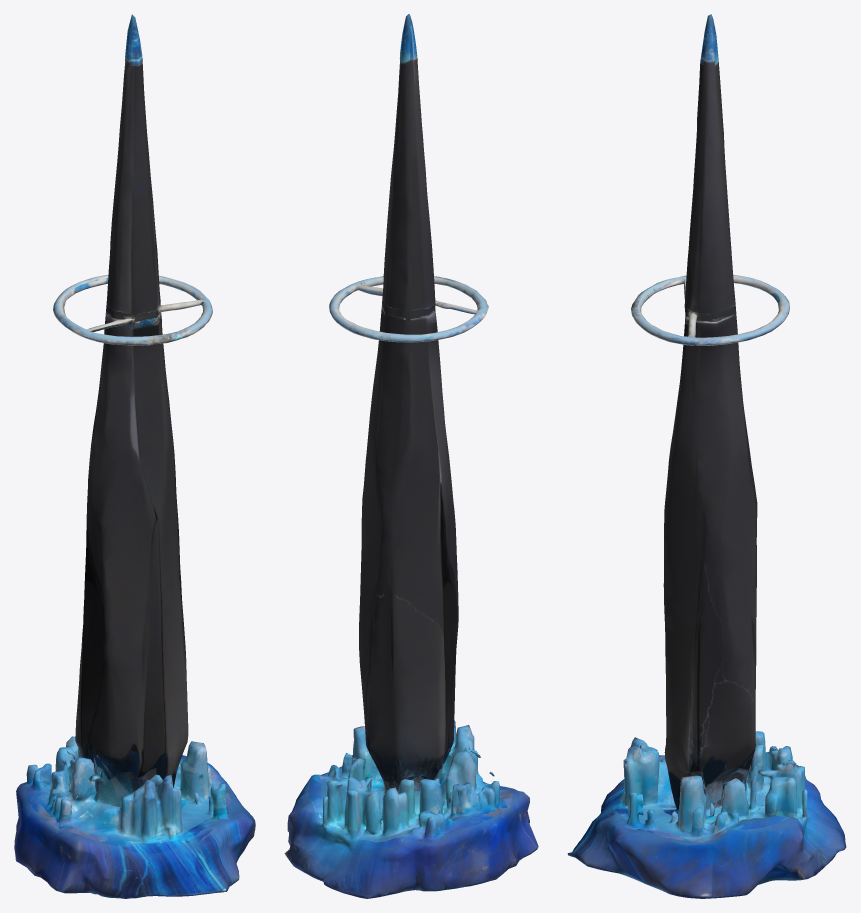
The model's file is Spiral.glb.
3 renders of one model, left to right at view 1: azimuth 30°, elevation 25°; view 2: azimuth 150°, elevation 25°; view 3: azimuth 270°, elevation 25°, orthographic.
Size of the model in its own units: 0.5353 by 1.99 by 0.6058.
1 material, 1 textured.
